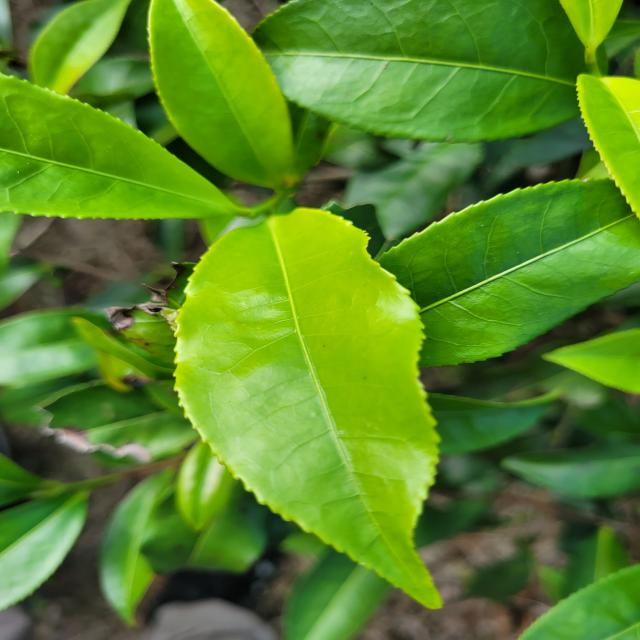Category B(2-4 days): (136, 170, 499, 619)
